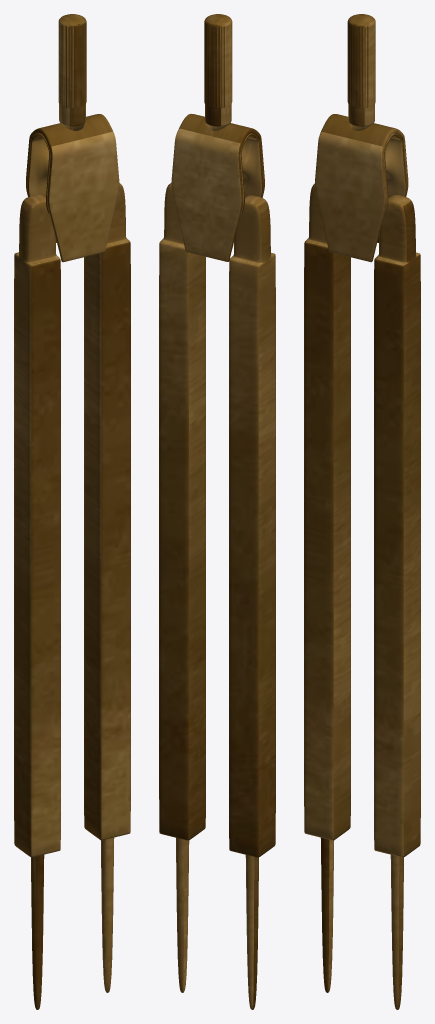
The model's file is dividing-compass.glb.
The picture shows the model from 3 angles, left to right: view 1: azimuth 30°, elevation 25°; view 2: azimuth 150°, elevation 25°; view 3: azimuth 330°, elevation 25°; orthographic projection.
Visible parts, largest first — view 1: AnyConv.com__LangenZirkel; view 2: AnyConv.com__LangenZirkel; view 3: AnyConv.com__LangenZirkel.
Boxes of the visible parts, x1=… form: AnyConv.com__LangenZirkel: x1=14, y1=14, x2=130, y2=1009; AnyConv.com__LangenZirkel: x1=159, y1=14, x2=275, y2=1009; AnyConv.com__LangenZirkel: x1=304, y1=14, x2=420, y2=1009.
Size of the model in its own units: 2.7 by 24.95 by 1.09.
Materials: 1 (1 with a texture image).
